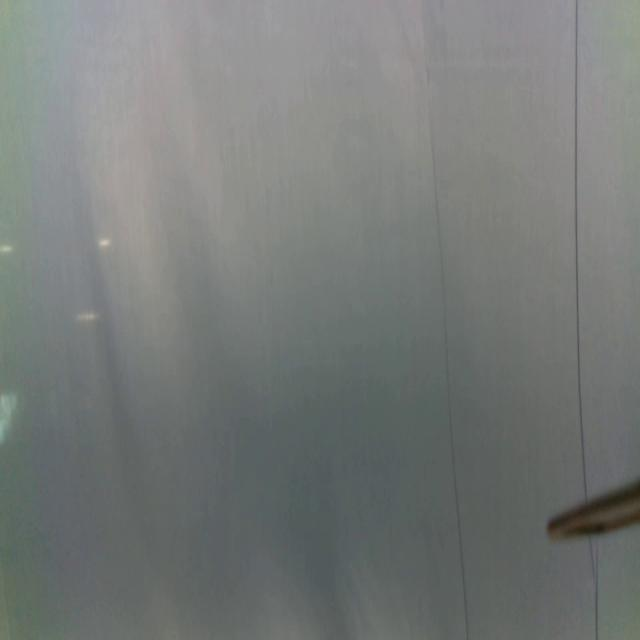crease: (423, 68, 472, 640), (570, 0, 588, 502), (589, 538, 602, 640)
